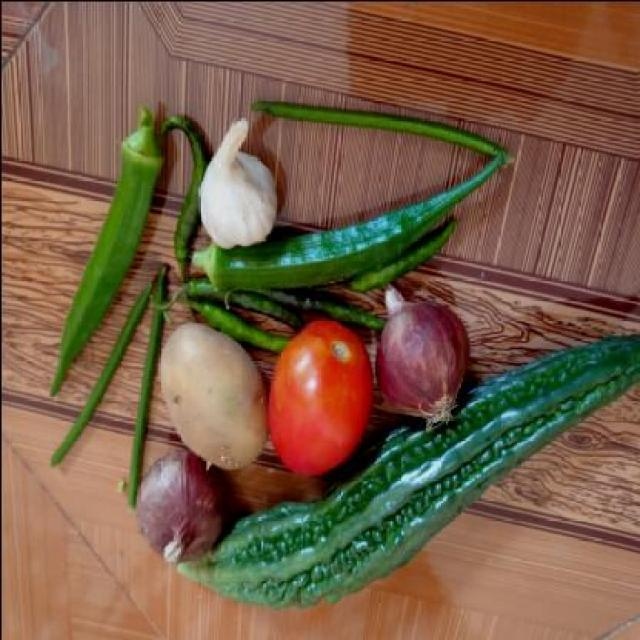Garlic: (197, 119, 280, 252)
Green Chili: (350, 217, 464, 300)
Lady finger: (42, 98, 162, 406), (205, 202, 538, 296)
Onion: (123, 452, 231, 570), (374, 290, 471, 418)
Potato: (158, 329, 272, 466)
Tomato: (268, 317, 376, 477)
